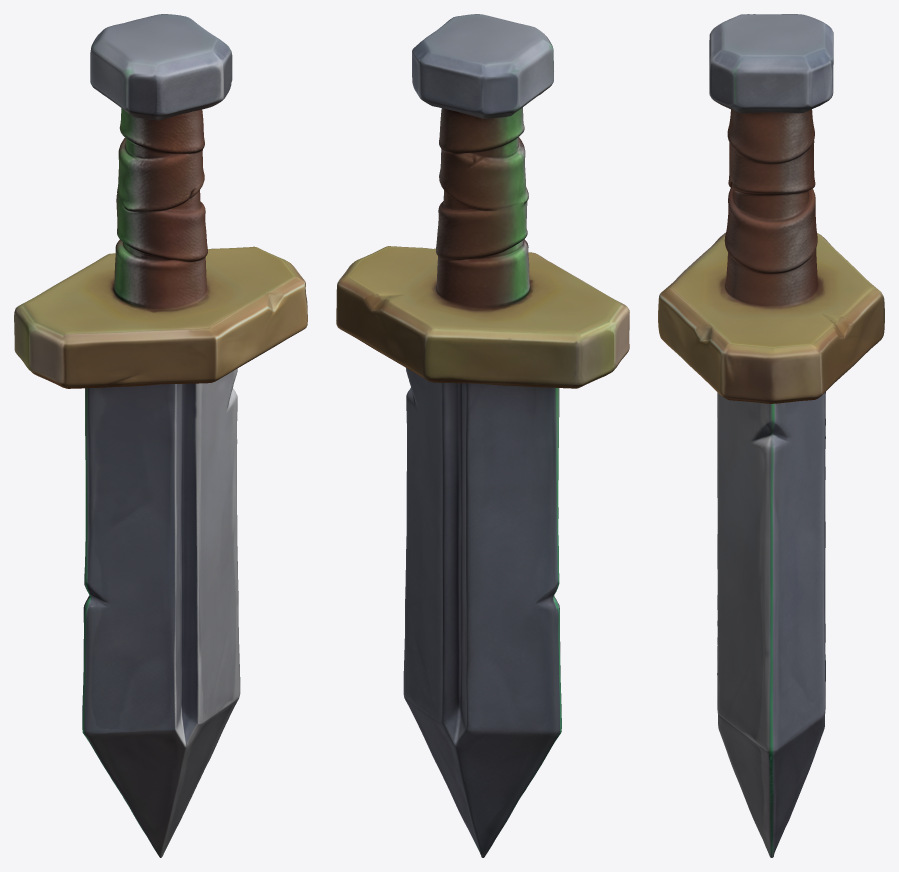
Rendered from Sword_Tripo.glb.
3 views of the same model, side by side, from view 1: azimuth 30°, elevation 25°; view 2: azimuth 150°, elevation 25°; view 3: azimuth 270°, elevation 25° (orthographic).
Visible parts, largest first — view 1: tripo_node_ddf3e7f4; view 2: tripo_node_ddf3e7f4; view 3: tripo_node_ddf3e7f4.
Boxes of the visible parts, box(x1,y1,x2,y2) form: tripo_node_ddf3e7f4: box(14, 14, 307, 857); tripo_node_ddf3e7f4: box(336, 14, 629, 857); tripo_node_ddf3e7f4: box(658, 14, 884, 857).
Size of the model in its own units: 32.83 by 97.69 by 24.33.
Materials: 1 (1 with a texture image).
